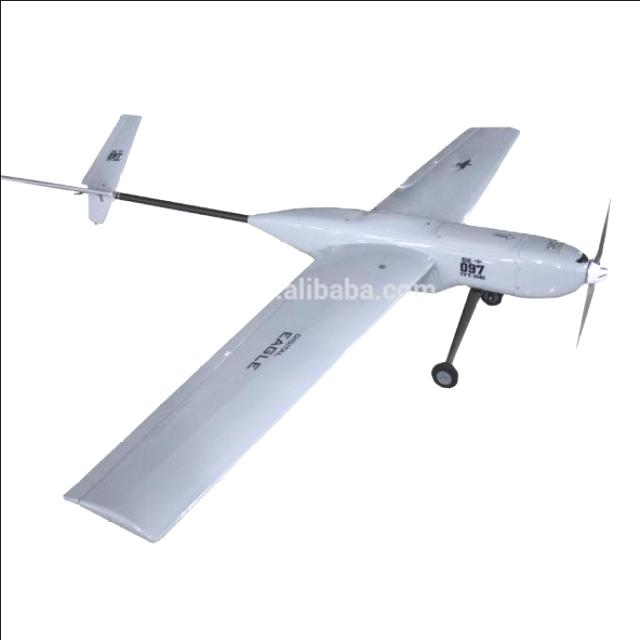plane: (0, 110, 615, 543)
